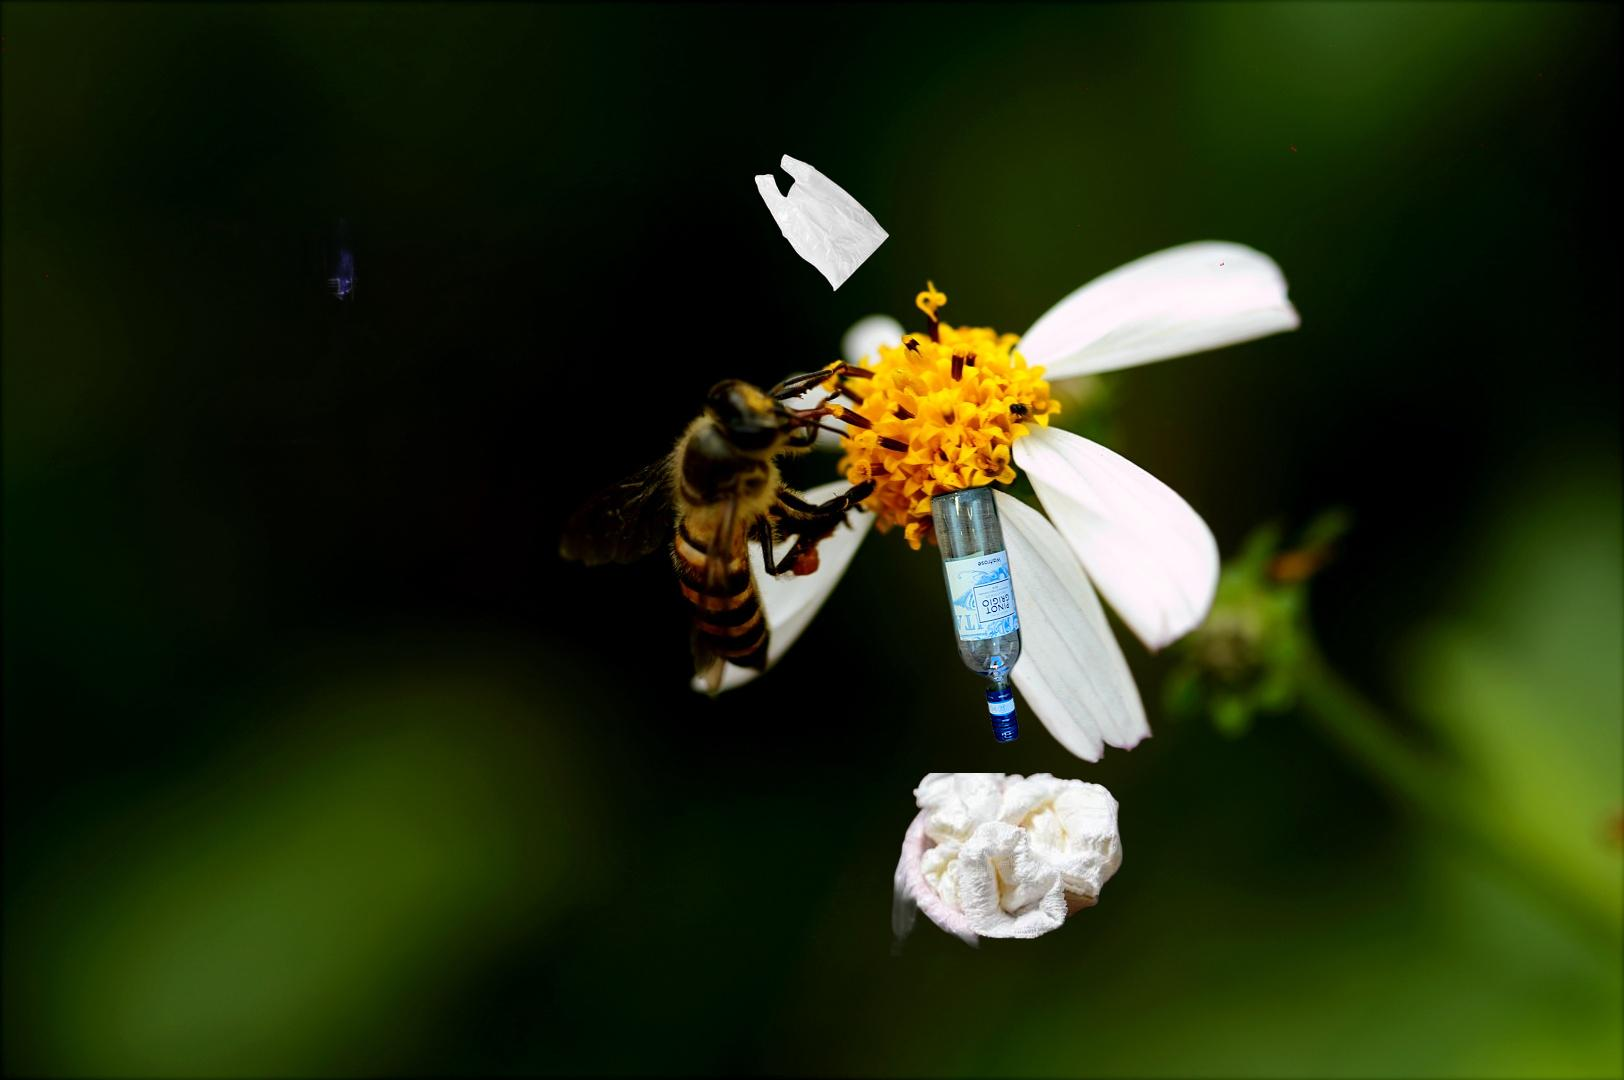glass: (925, 479, 1026, 749)
penholder: (118, 121, 473, 452)
plastic-bag: (751, 153, 893, 295)
trash: (883, 773, 1126, 956)
